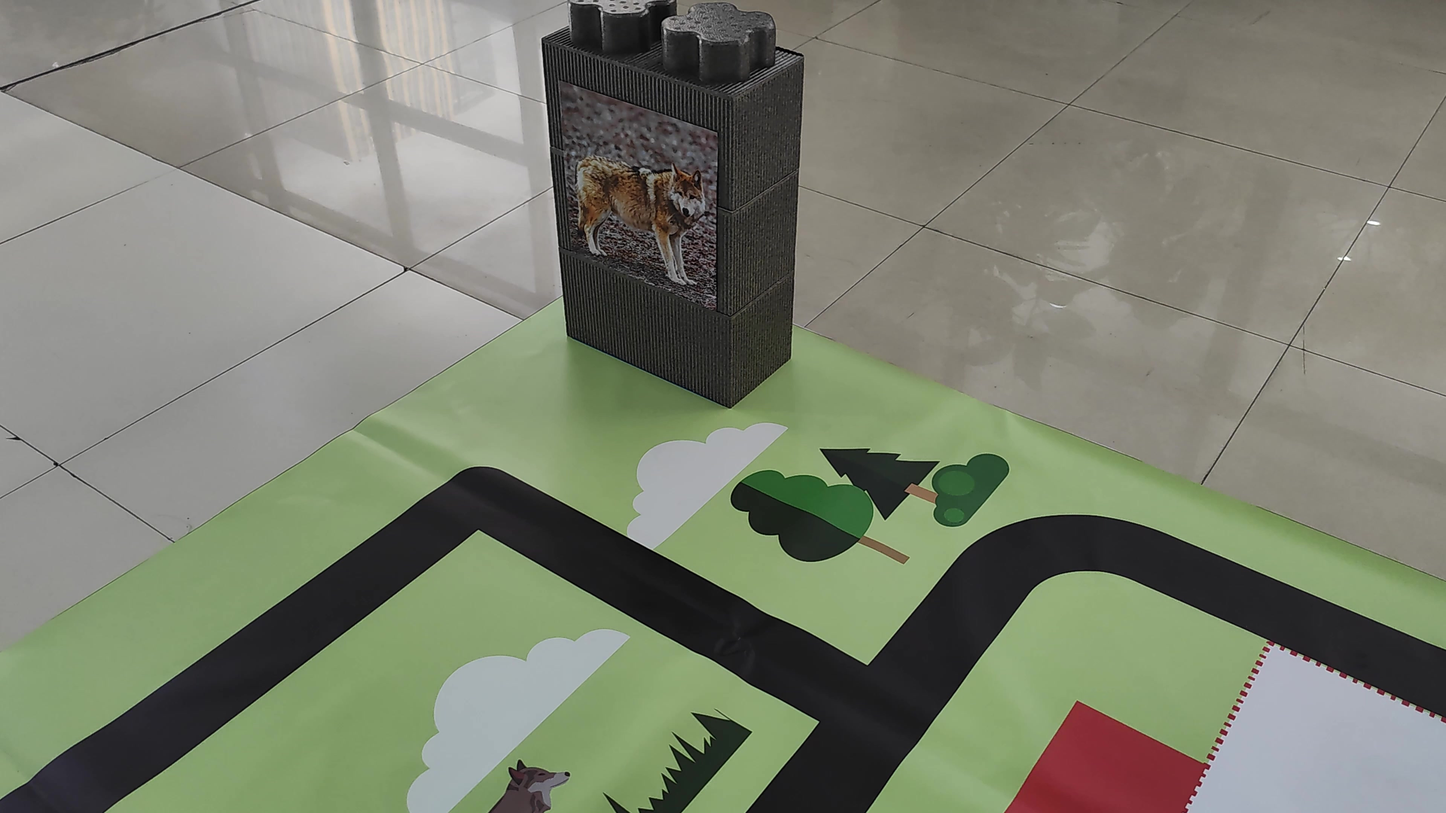wolf: (549, 130, 716, 295)
